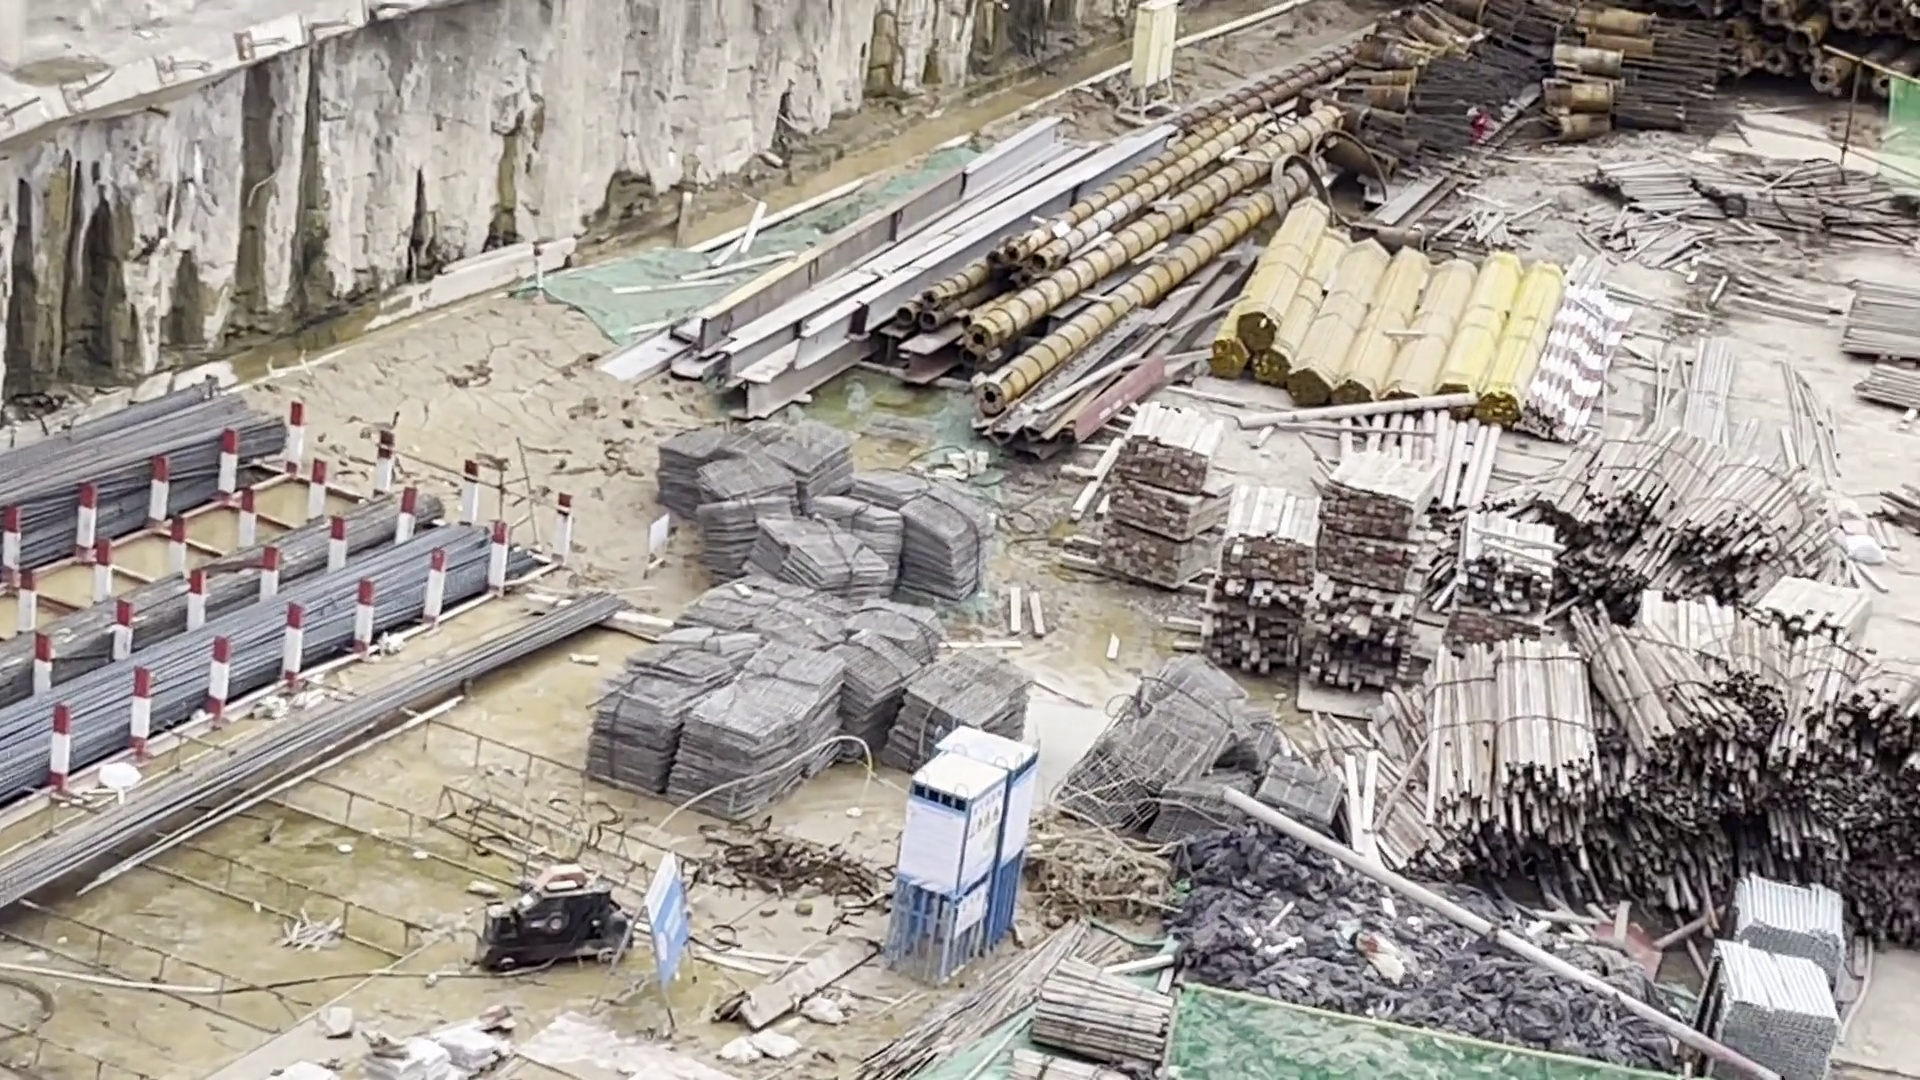rebar: (4, 382, 632, 930)
scaffold: (1722, 876, 1854, 1072)
wood: (1096, 400, 1436, 698)
